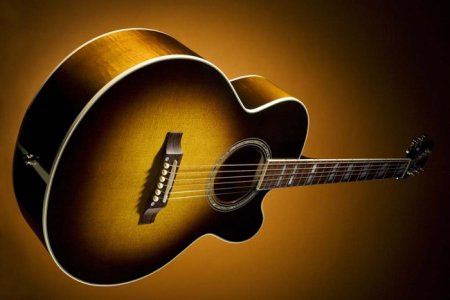guitar: (12, 28, 433, 288)
